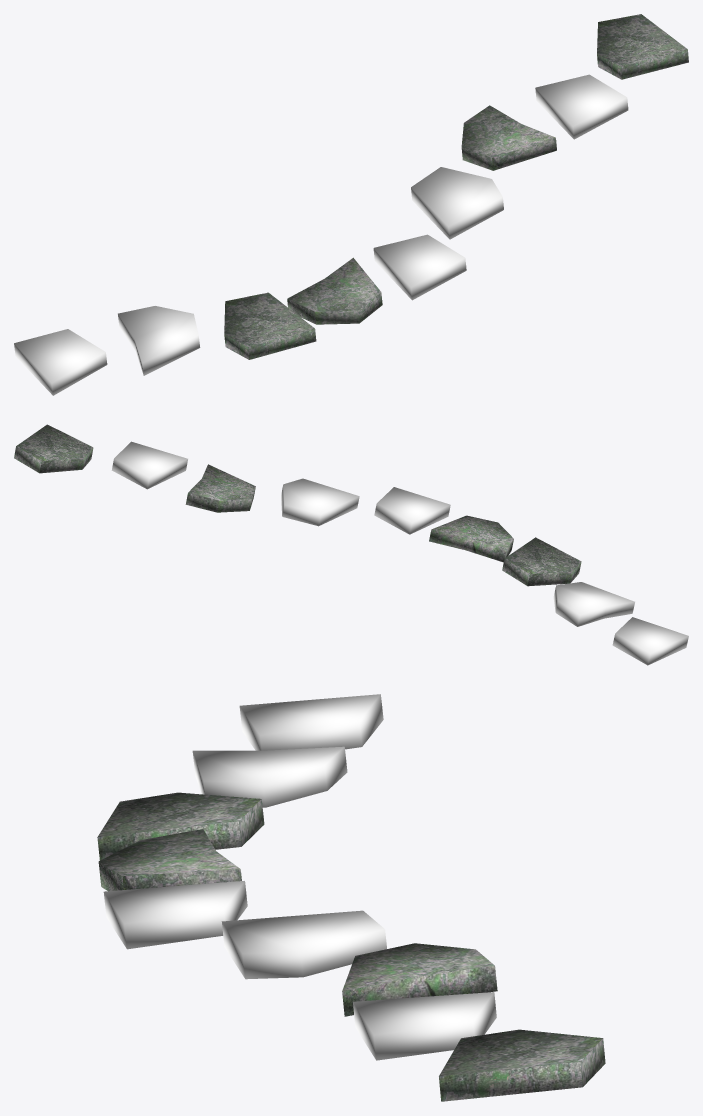
File: graden_stones_a.glb
The picture shows the model from 3 angles, top to bottom: view 1: azimuth 30°, elevation 25°; view 2: azimuth 150°, elevation 25°; view 3: azimuth 270°, elevation 25°; orthographic projection. The views are drawn at different scales.
Parts seen in each view (by area): view 1: city_rock.jpg__, rock_gray.jpg__; view 2: city_rock.jpg__, rock_gray.jpg__; view 3: city_rock.jpg__, rock_gray.jpg__.
Boxes of the visible parts, x1,y1,x2,y2 form: city_rock.jpg__: [14, 74, 628, 395]; rock_gray.jpg__: [224, 14, 688, 359]; city_rock.jpg__: [111, 441, 688, 665]; rock_gray.jpg__: [14, 424, 581, 586]; city_rock.jpg__: [103, 694, 496, 1060]; rock_gray.jpg__: [97, 792, 605, 1101].
Size of the model in its own units: 20.46 by 3.97 by 7.59.
2 materials, 1 textured.
